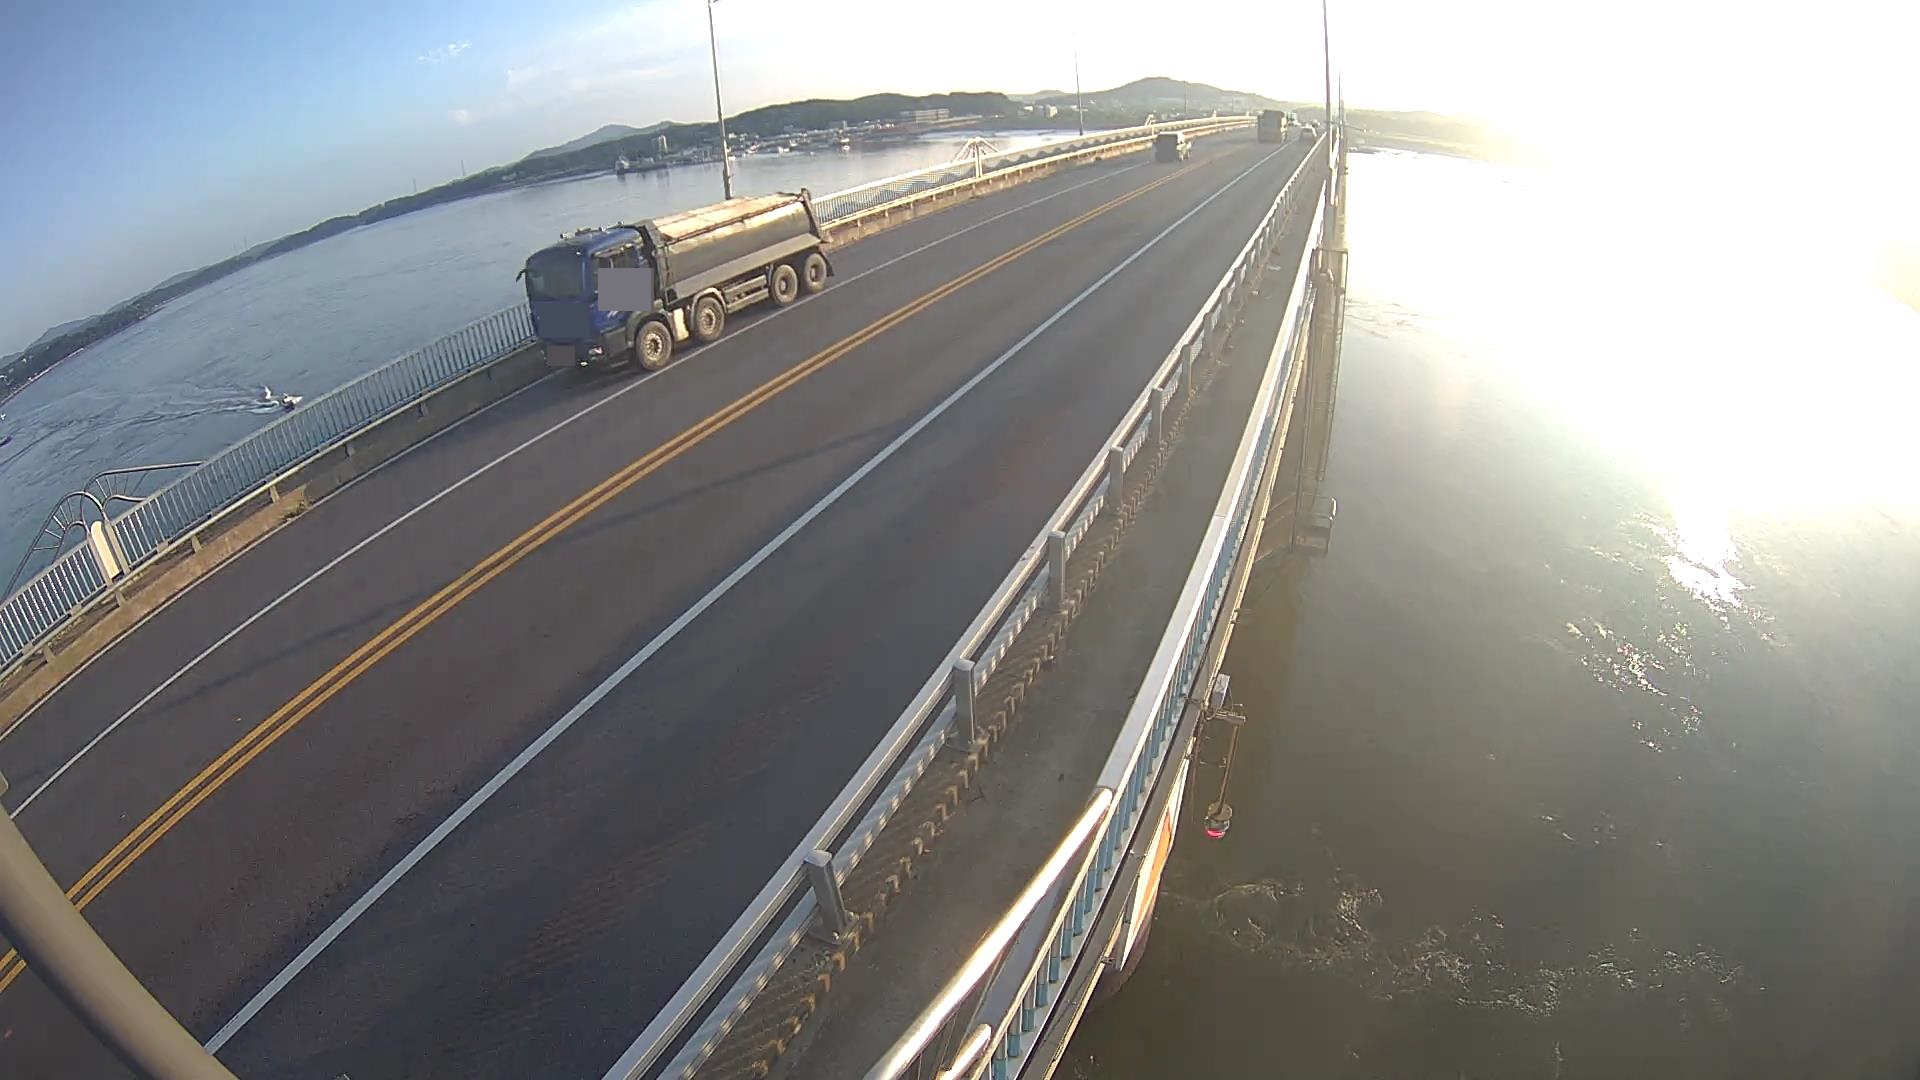정상차량: (516, 186, 839, 372)
